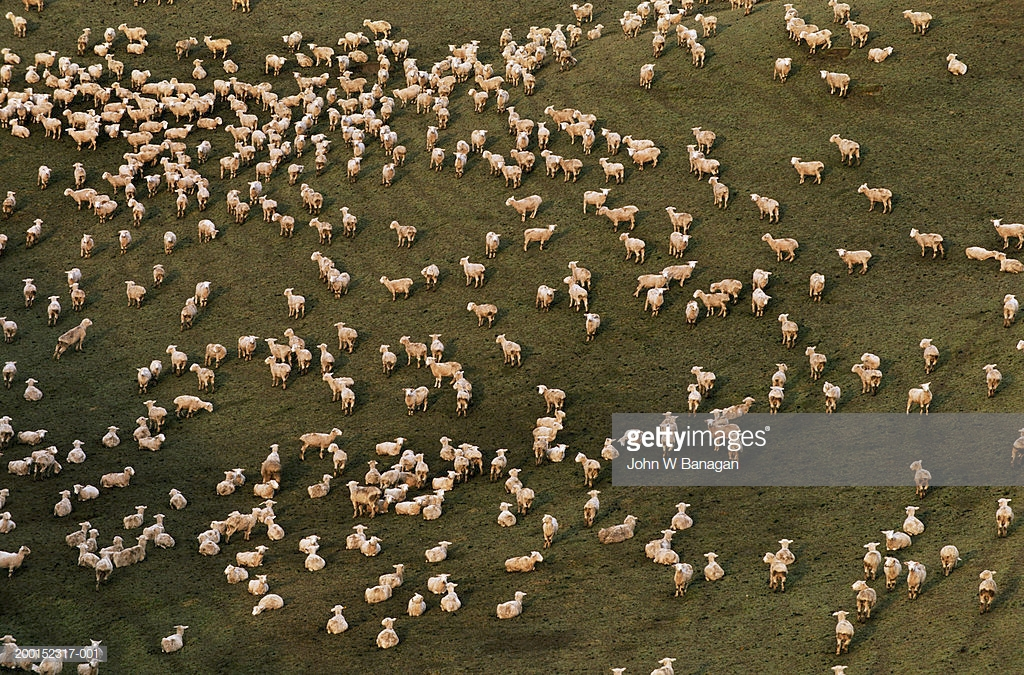sheep: (52, 317, 96, 361), (296, 427, 345, 461), (597, 514, 641, 546), (760, 230, 800, 264), (344, 480, 381, 516), (909, 226, 947, 261), (855, 181, 893, 214), (1, 545, 36, 579), (989, 216, 1024, 250), (832, 607, 856, 656), (975, 569, 1003, 611), (788, 155, 825, 186), (763, 551, 789, 593), (902, 560, 928, 602), (906, 383, 934, 422), (494, 589, 527, 622), (384, 218, 417, 251), (494, 334, 525, 369), (836, 244, 872, 274), (158, 622, 189, 656), (521, 222, 557, 251), (505, 191, 542, 219), (702, 547, 729, 584), (663, 204, 695, 235), (665, 256, 698, 286), (619, 230, 647, 265), (798, 27, 834, 54), (99, 465, 136, 491), (399, 334, 428, 367), (830, 133, 863, 162), (375, 615, 400, 653), (378, 273, 413, 300), (817, 68, 852, 95), (187, 362, 217, 393), (911, 460, 936, 497), (581, 486, 602, 530), (458, 255, 485, 289), (332, 320, 358, 355), (901, 8, 933, 36), (466, 301, 499, 328), (707, 174, 731, 211), (236, 542, 270, 568), (93, 549, 113, 593), (624, 145, 662, 168), (597, 154, 626, 184), (580, 186, 611, 214), (322, 603, 349, 635), (669, 500, 696, 532), (283, 286, 308, 320), (804, 343, 828, 378), (776, 311, 800, 346), (64, 126, 96, 152), (61, 185, 97, 208), (535, 384, 565, 411), (263, 356, 290, 386), (402, 385, 429, 414), (689, 364, 716, 393), (690, 125, 716, 155), (423, 539, 454, 564), (202, 33, 233, 58), (119, 129, 152, 152), (540, 511, 561, 547), (194, 217, 221, 245), (3, 10, 28, 40), (336, 203, 358, 237), (360, 16, 391, 40), (685, 36, 707, 68), (122, 503, 148, 530), (271, 210, 296, 238), (1, 358, 23, 389), (533, 284, 558, 311), (599, 125, 620, 157), (218, 151, 241, 180), (583, 309, 603, 342), (124, 277, 146, 306), (880, 557, 902, 586), (693, 13, 718, 38), (125, 197, 145, 228), (26, 215, 45, 247), (194, 278, 214, 307), (117, 21, 146, 41), (173, 35, 198, 58), (34, 48, 59, 71), (484, 230, 503, 260), (66, 438, 87, 465), (468, 86, 488, 114), (279, 30, 302, 54), (77, 231, 97, 258), (470, 127, 490, 153), (113, 228, 132, 254), (265, 54, 287, 76), (130, 68, 152, 90), (773, 56, 793, 80), (21, 277, 38, 305), (34, 164, 53, 189), (346, 155, 364, 181), (429, 145, 447, 171), (194, 139, 212, 165), (579, 126, 595, 155), (47, 295, 62, 325), (638, 62, 654, 89), (423, 125, 439, 151), (380, 161, 396, 186)
